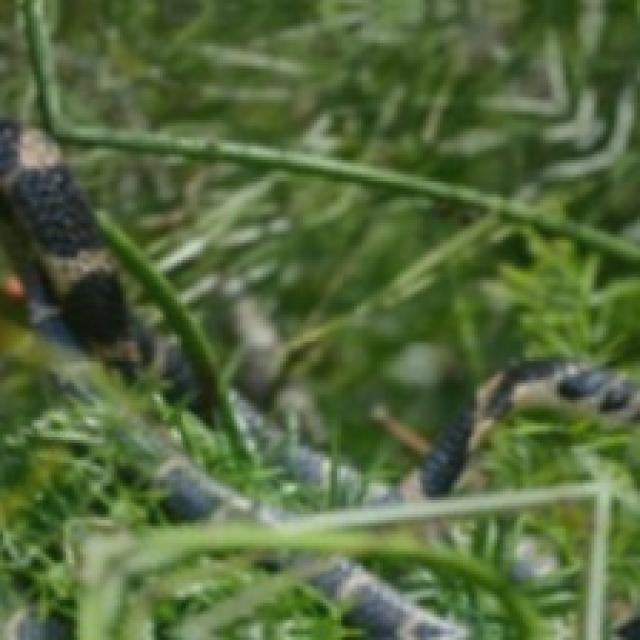king cobra: (0, 123, 637, 637)
